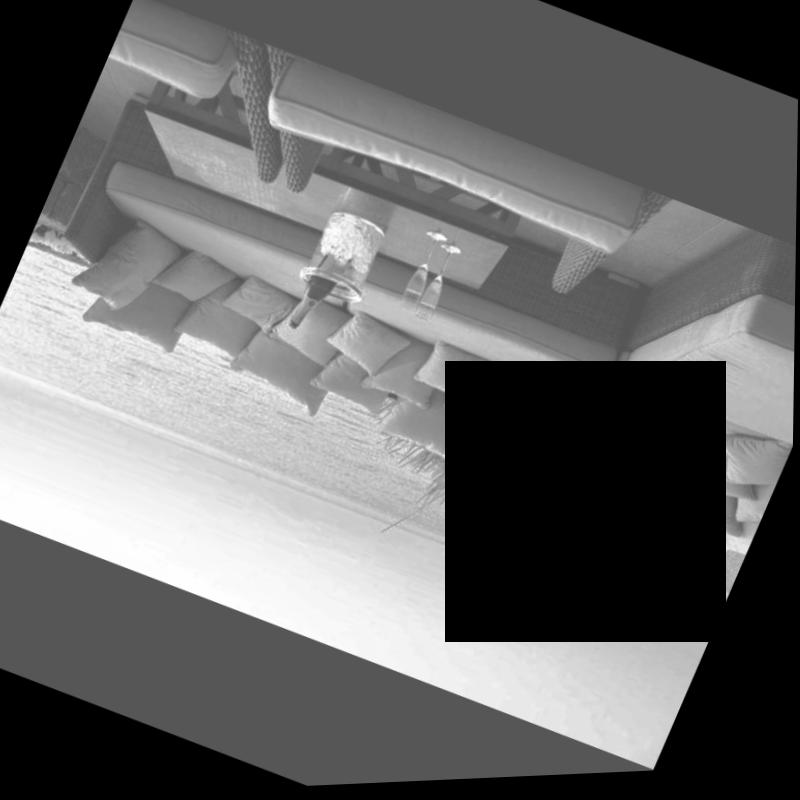pillow: (509, 391, 634, 528), (65, 200, 193, 329), (83, 256, 204, 365), (212, 320, 341, 422), (374, 378, 490, 481), (659, 427, 774, 525), (651, 450, 760, 551), (172, 263, 274, 367), (445, 360, 551, 458), (524, 390, 633, 484), (319, 297, 418, 395), (696, 416, 795, 508), (463, 384, 549, 481), (152, 235, 243, 323), (368, 330, 456, 418), (623, 489, 725, 564), (313, 351, 405, 424), (597, 415, 682, 491), (418, 343, 501, 416), (280, 301, 353, 377), (226, 274, 303, 343), (582, 454, 658, 522), (729, 474, 781, 538)
